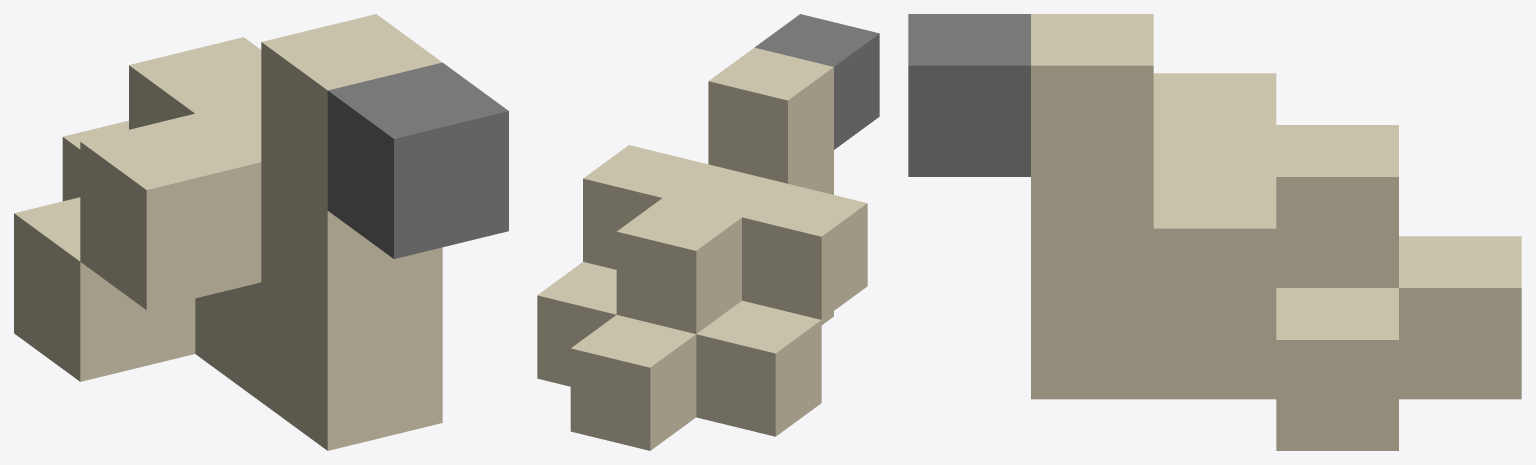
Rendered from Animal_Bird_Dove_02.glb.
3 renders of one model, left to right at view 1: azimuth 30°, elevation 25°; view 2: azimuth 150°, elevation 25°; view 3: azimuth 270°, elevation 25°, orthographic. The views are drawn at different scales.
Parts seen in each view (by area): view 1: Animal_Bird_Dove_02; view 2: Animal_Bird_Dove_02; view 3: Animal_Bird_Dove_02.
Boxes of the visible parts, x1,y1,x2,y2 form: Animal_Bird_Dove_02: (14, 14, 508, 450); Animal_Bird_Dove_02: (537, 14, 879, 450); Animal_Bird_Dove_02: (908, 14, 1521, 450).
Bounding box in the file's own units: 0.3 × 0.3 × 0.5.
1 material, 1 textured.
